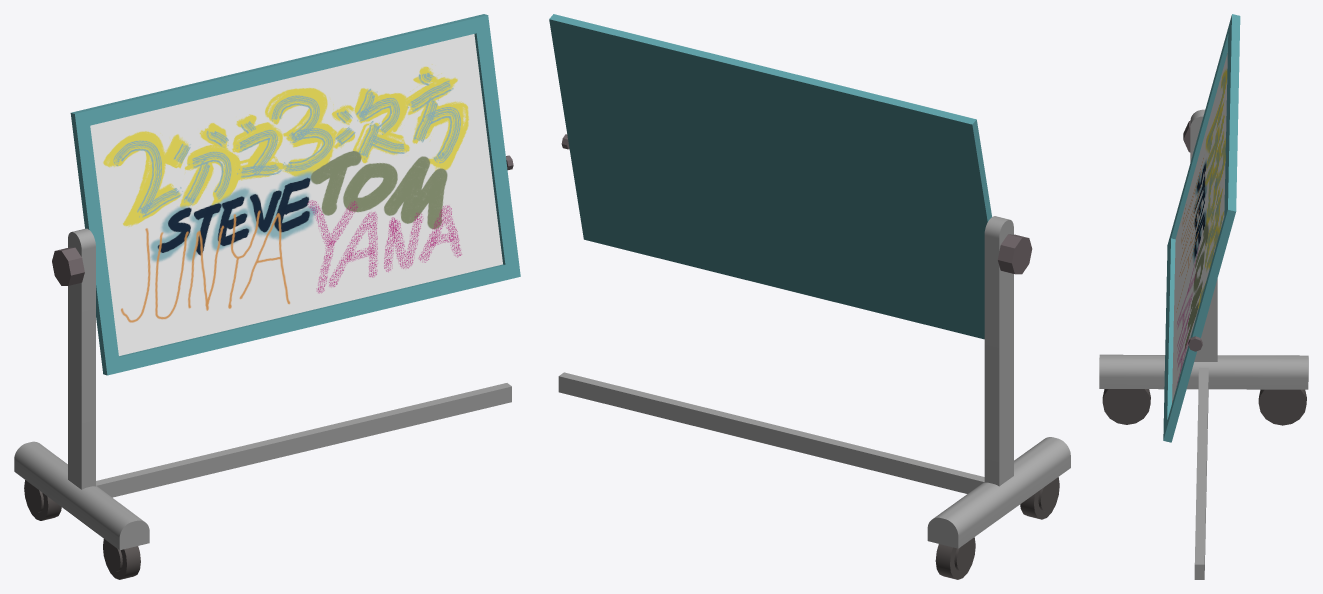
The model's file is board1.fbx.
3 views of the same model, side by side, from view 1: azimuth 30°, elevation 25°; view 2: azimuth 150°, elevation 25°; view 3: azimuth 270°, elevation 25° (orthographic). The views are drawn at different scales.
Visible parts, largest first — view 1: 立方体_24; view 2: 立方体_24; view 3: 立方体_24.
Boxes of the visible parts, x1,y1,x2,y2 form: 立方体_24: [14, 14, 520, 579]; 立方体_24: [549, 14, 1070, 579]; 立方体_24: [1099, 14, 1308, 579].
Bounding box in the file's own units: 290 × 261 × 121.
Materials: 6 (1 with a texture image).
